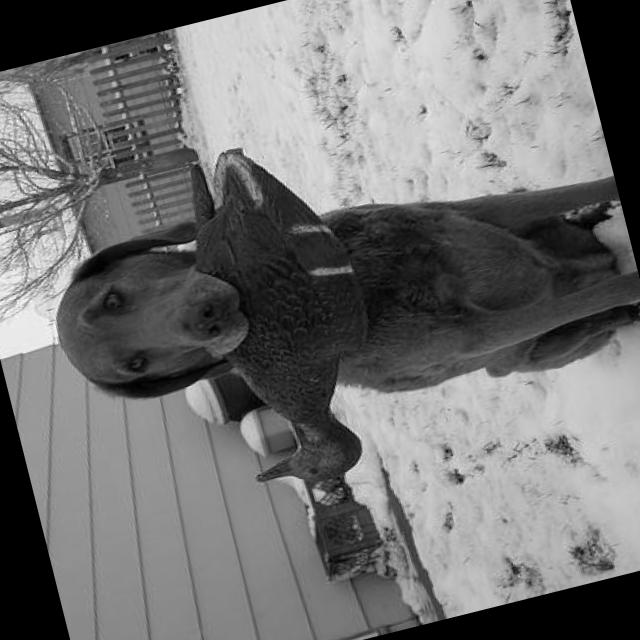sitting: (17, 57, 640, 535)
